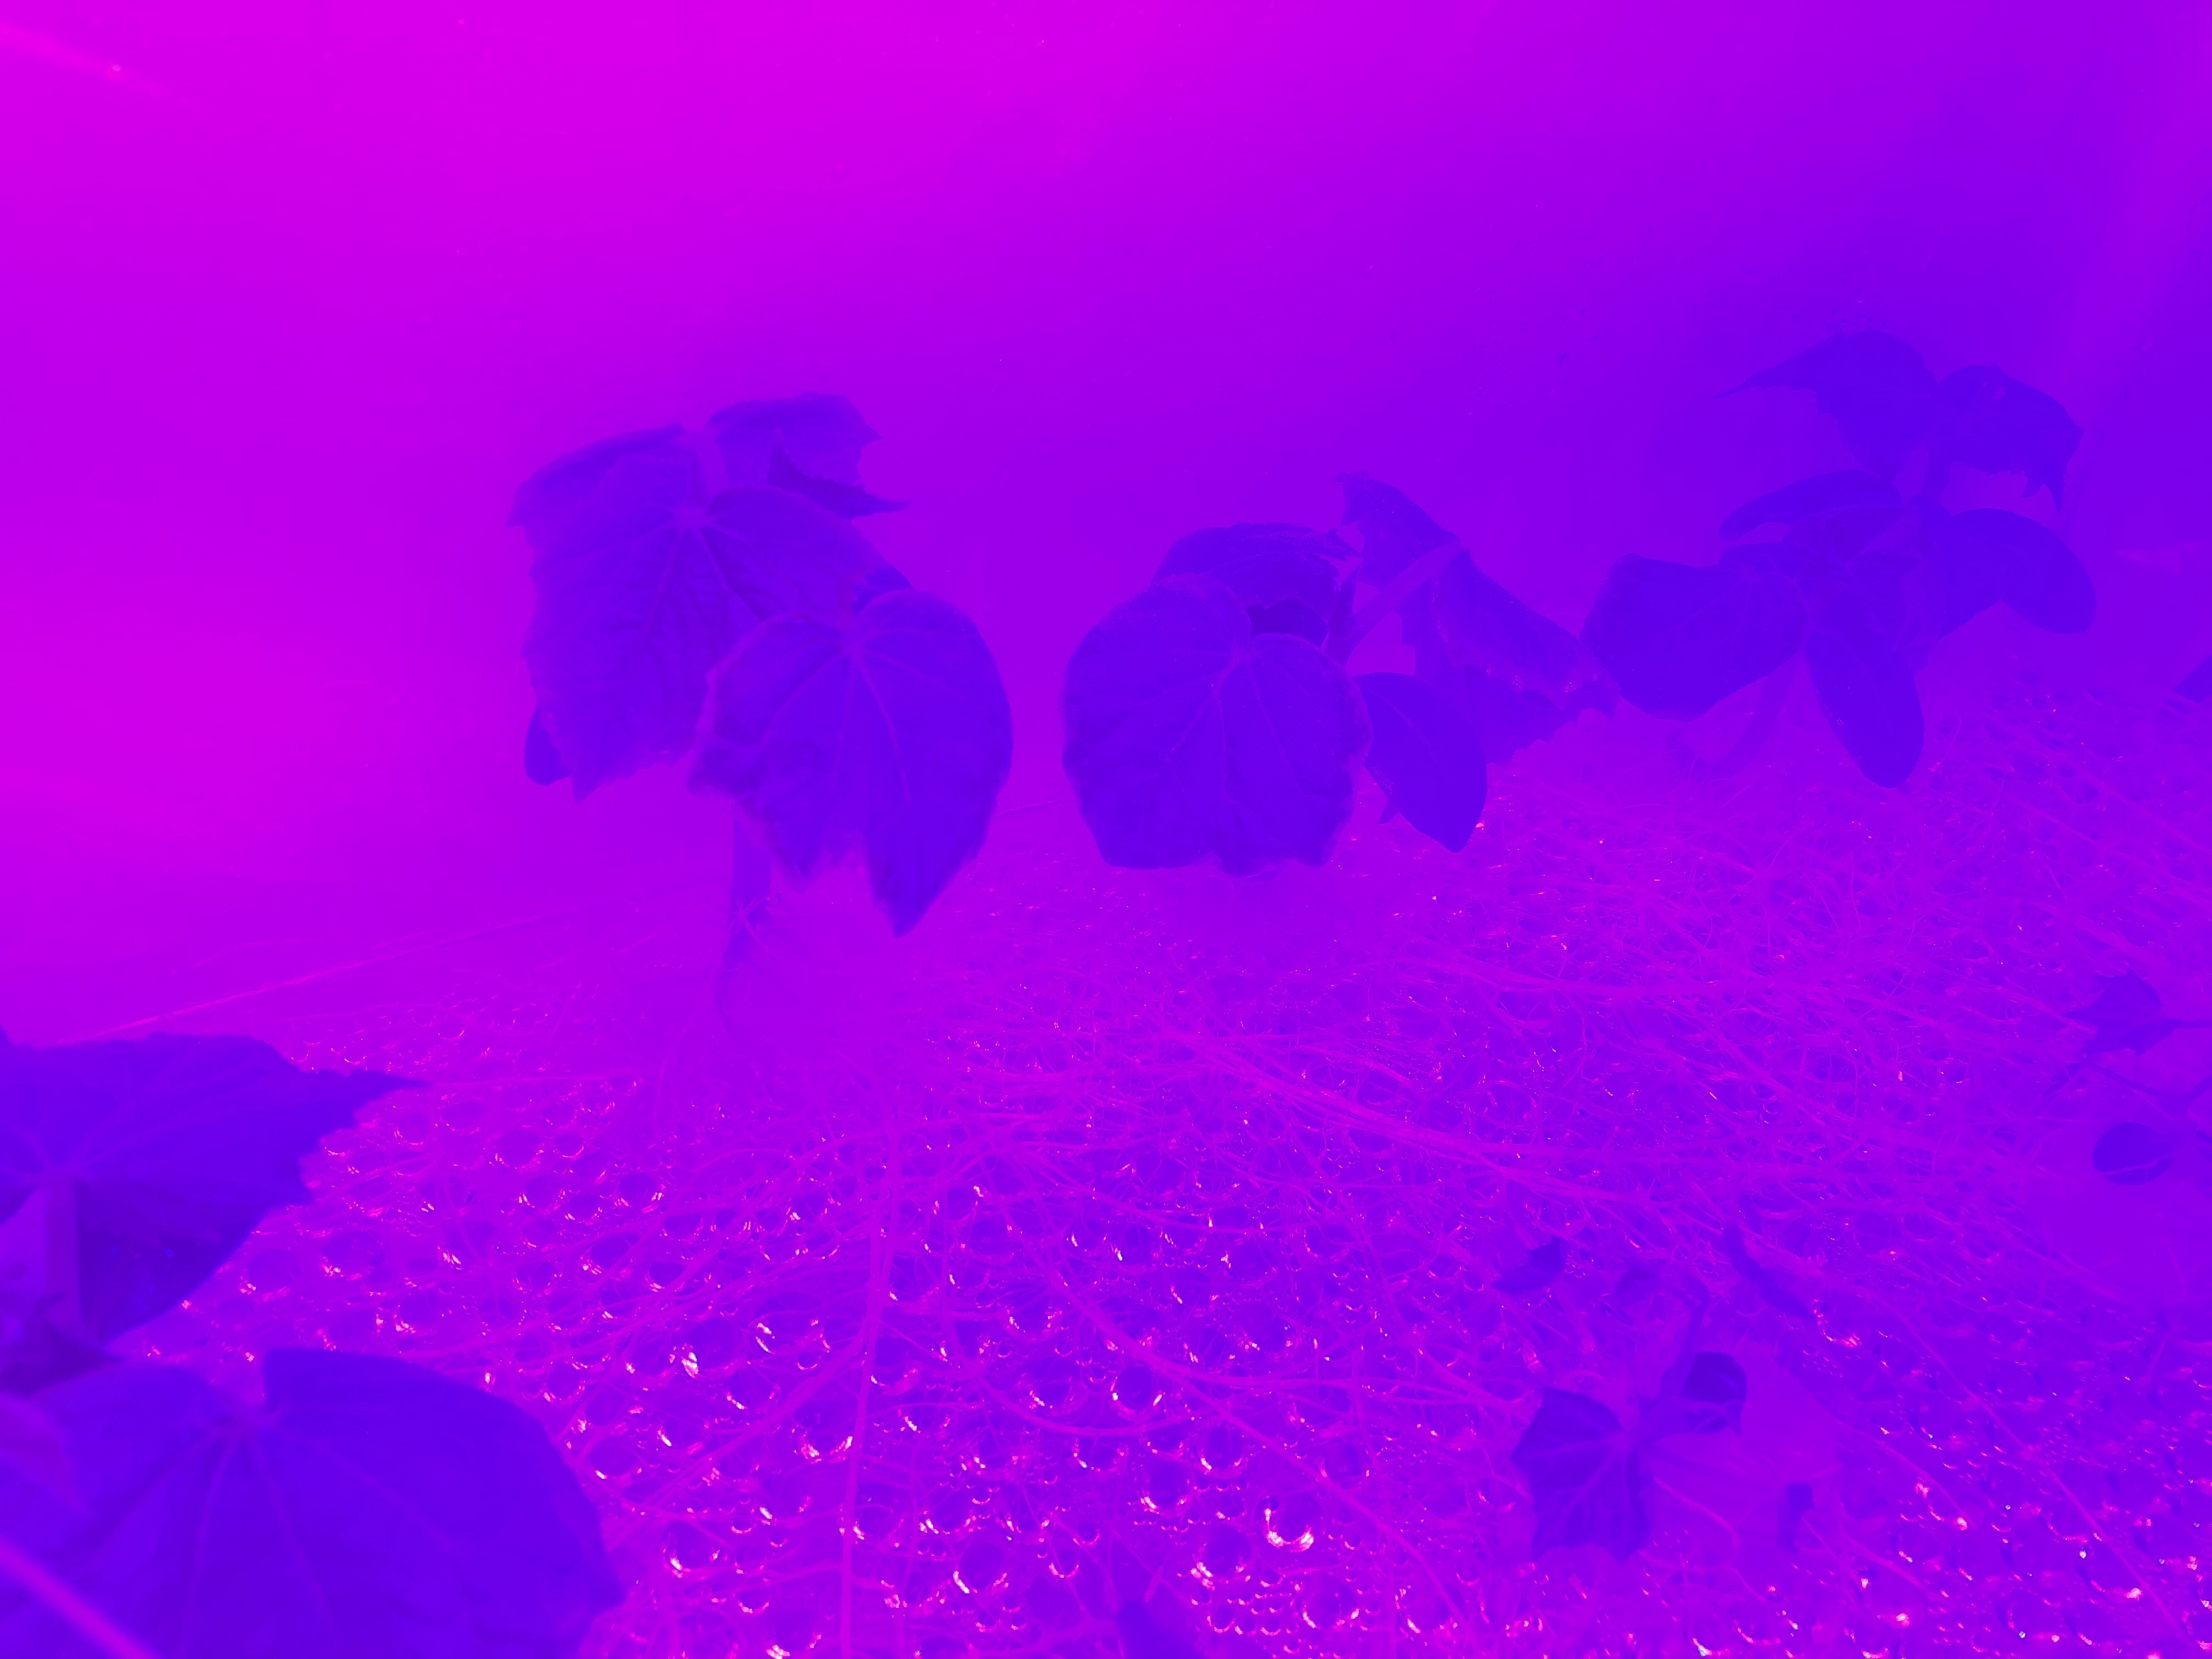lil_plant: (453, 321, 1071, 1089), (1489, 298, 2134, 882), (1050, 460, 1615, 986), (1336, 1180, 1879, 1614), (1972, 910, 2200, 1218)
